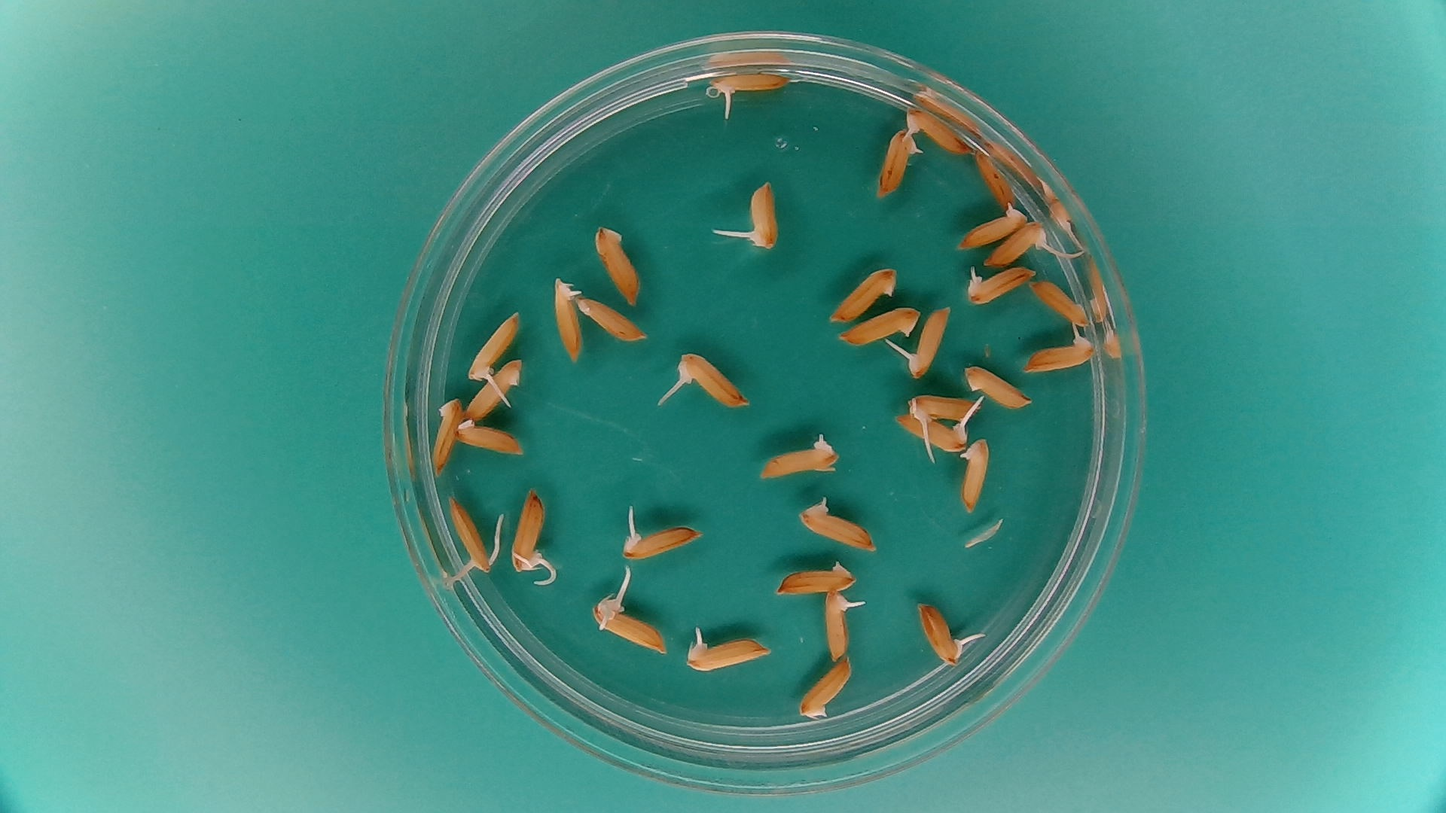no: (825, 263, 901, 324), (592, 222, 644, 308), (464, 356, 524, 423), (834, 303, 921, 348), (795, 656, 854, 720), (772, 558, 860, 595), (576, 297, 648, 341), (964, 366, 1034, 411), (1030, 276, 1091, 326), (973, 148, 1017, 213), (431, 394, 462, 478), (455, 422, 526, 457)
yes: (446, 493, 497, 575), (592, 596, 665, 653), (795, 502, 875, 553), (676, 353, 746, 410), (508, 485, 548, 577), (755, 435, 835, 481), (466, 314, 520, 378), (958, 202, 1030, 248), (682, 634, 764, 673), (907, 305, 950, 378), (905, 109, 973, 155), (984, 220, 1049, 268), (618, 523, 698, 562), (914, 598, 962, 663), (895, 410, 971, 451), (964, 263, 1036, 306), (1021, 332, 1098, 372), (877, 127, 922, 195), (956, 434, 993, 516), (551, 273, 584, 364), (907, 392, 981, 427), (744, 182, 783, 247), (708, 72, 790, 99), (823, 588, 851, 659)
